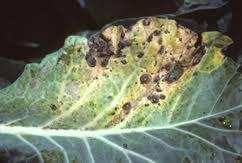Bok-Choy-Diseased: (2, 18, 242, 163)
